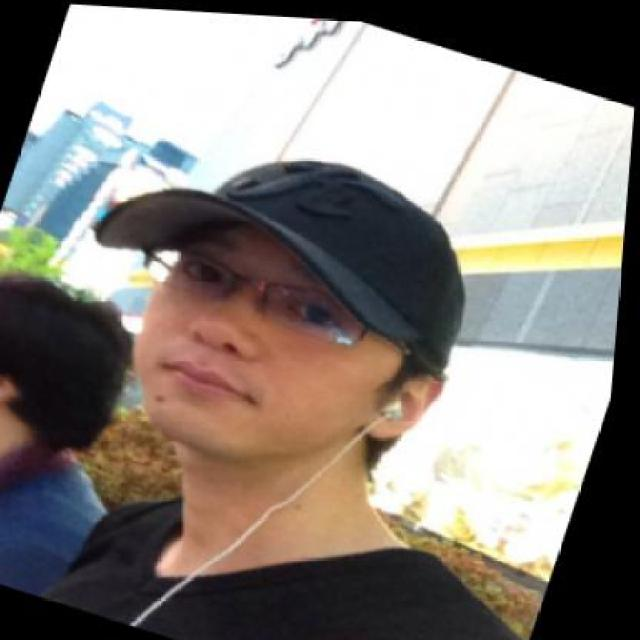hat: (65, 88, 512, 383)
